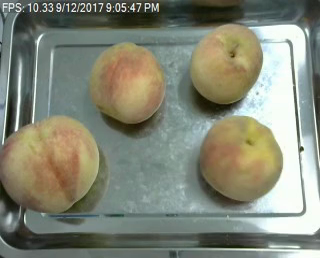Peach: (0, 114, 99, 216), (201, 114, 283, 202), (88, 42, 166, 125), (190, 22, 265, 105)
